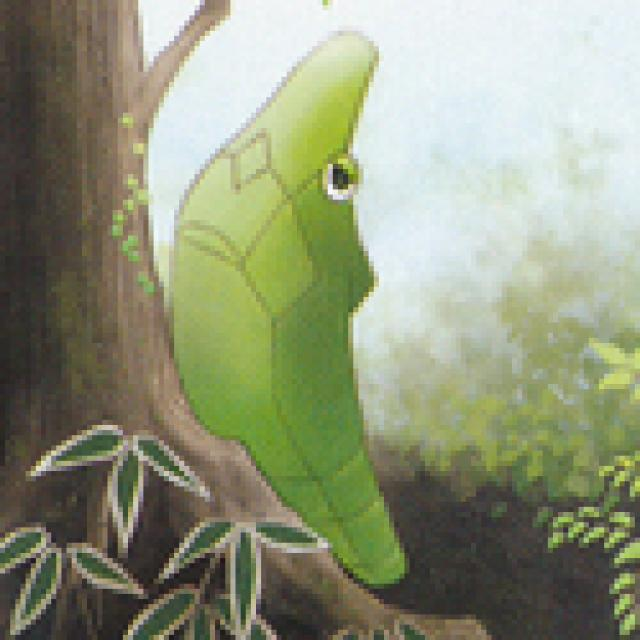Metapod: (166, 46, 426, 588)
